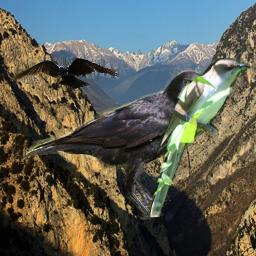Crow: (20, 70, 209, 220), (10, 57, 119, 95)
Cuckoo: (149, 58, 253, 217)
